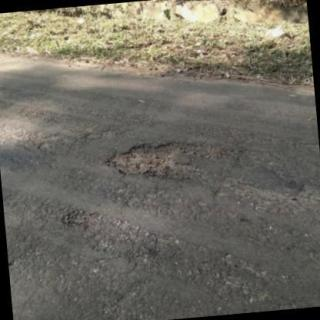pothole: (109, 142, 298, 196)
